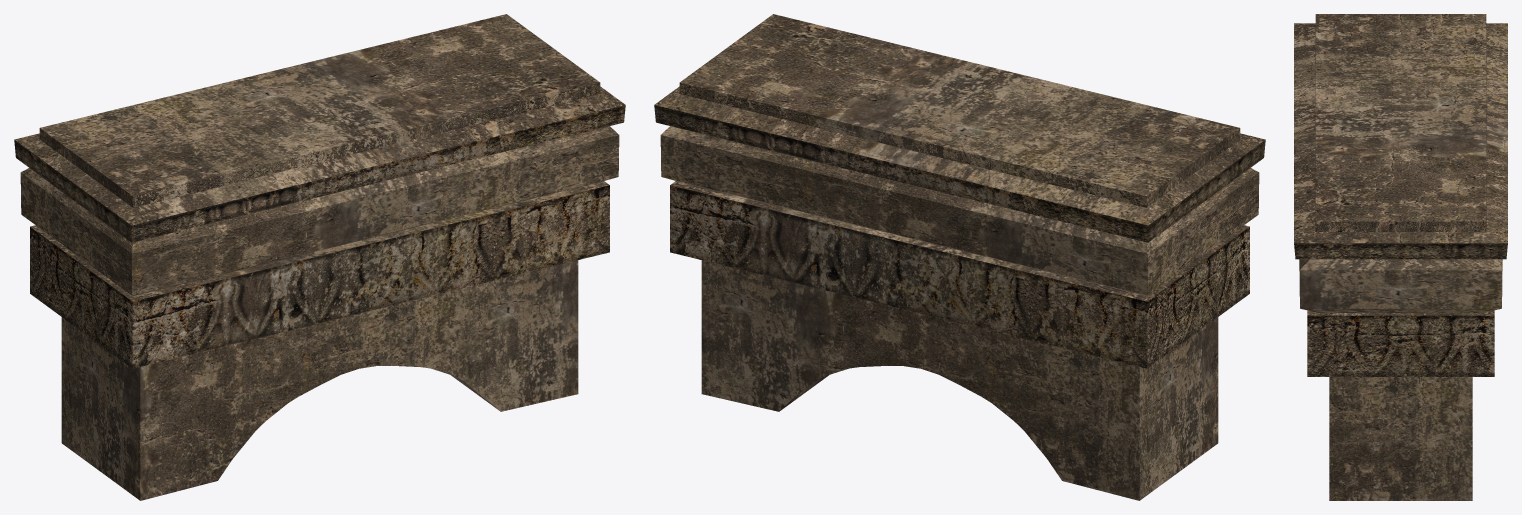
File: materials_5_arch_13.fbx
3 renders of one model, left to right at view 1: azimuth 30°, elevation 25°; view 2: azimuth 150°, elevation 25°; view 3: azimuth 270°, elevation 25°, orthographic. The views are drawn at different scales.
Visible parts, largest first — view 1: materials_5_arch_13; view 2: materials_5_arch_13; view 3: materials_5_arch_13.
Boxes of the visible parts, <box> form: materials_5_arch_13: <box>14,14,625,500</box>; materials_5_arch_13: <box>654,14,1265,500</box>; materials_5_arch_13: <box>1294,14,1507,500</box>.
Bounding box in the file's own units: 127 × 77.22 × 52.4.
